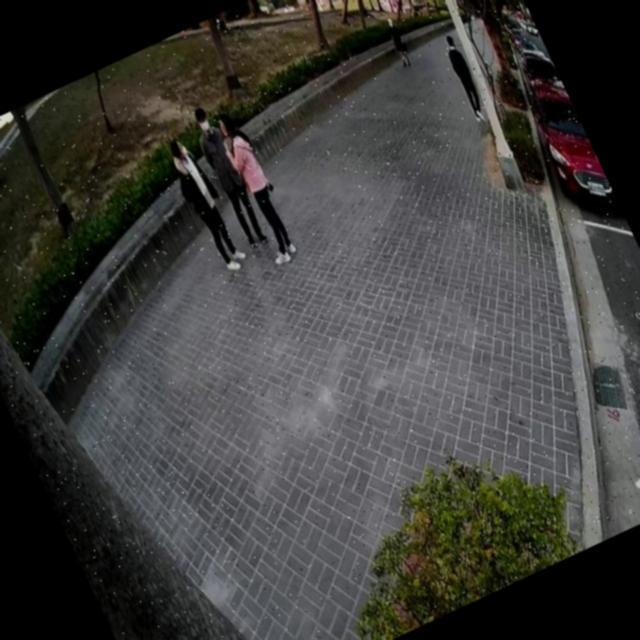person: (202, 100, 308, 272), (154, 123, 253, 279), (182, 100, 276, 256), (433, 29, 494, 129), (377, 10, 417, 70)
